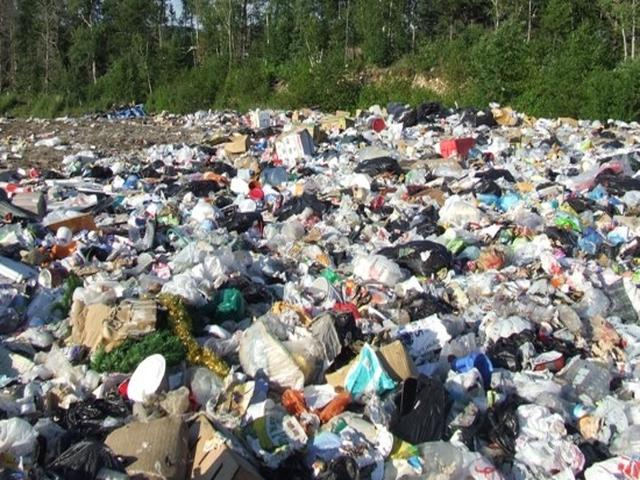garbage: (34, 165, 627, 457), (279, 120, 598, 167)
